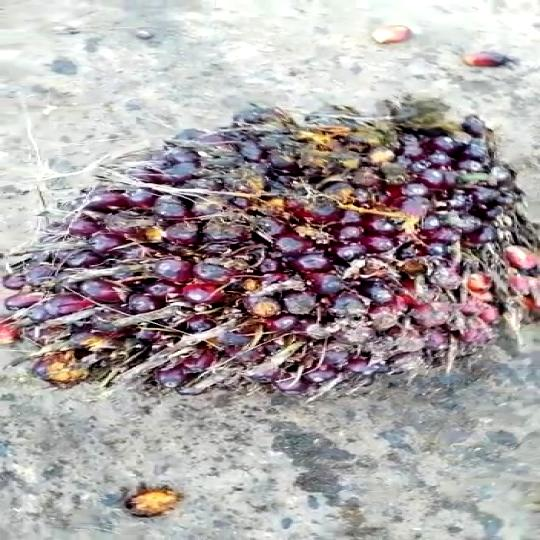masak: (0, 94, 540, 400)
